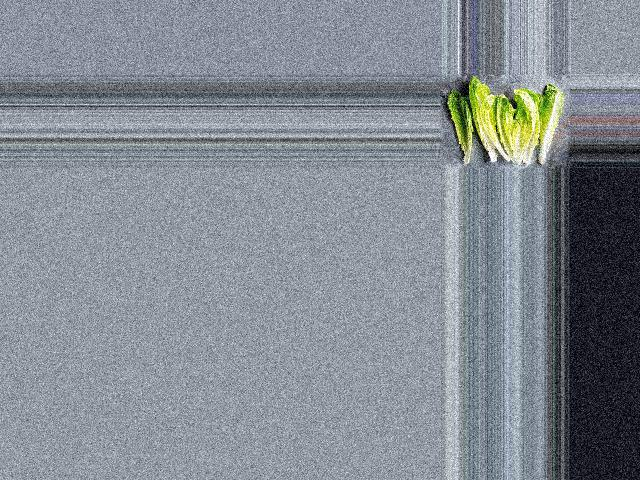lettuce: (449, 91, 474, 167)
